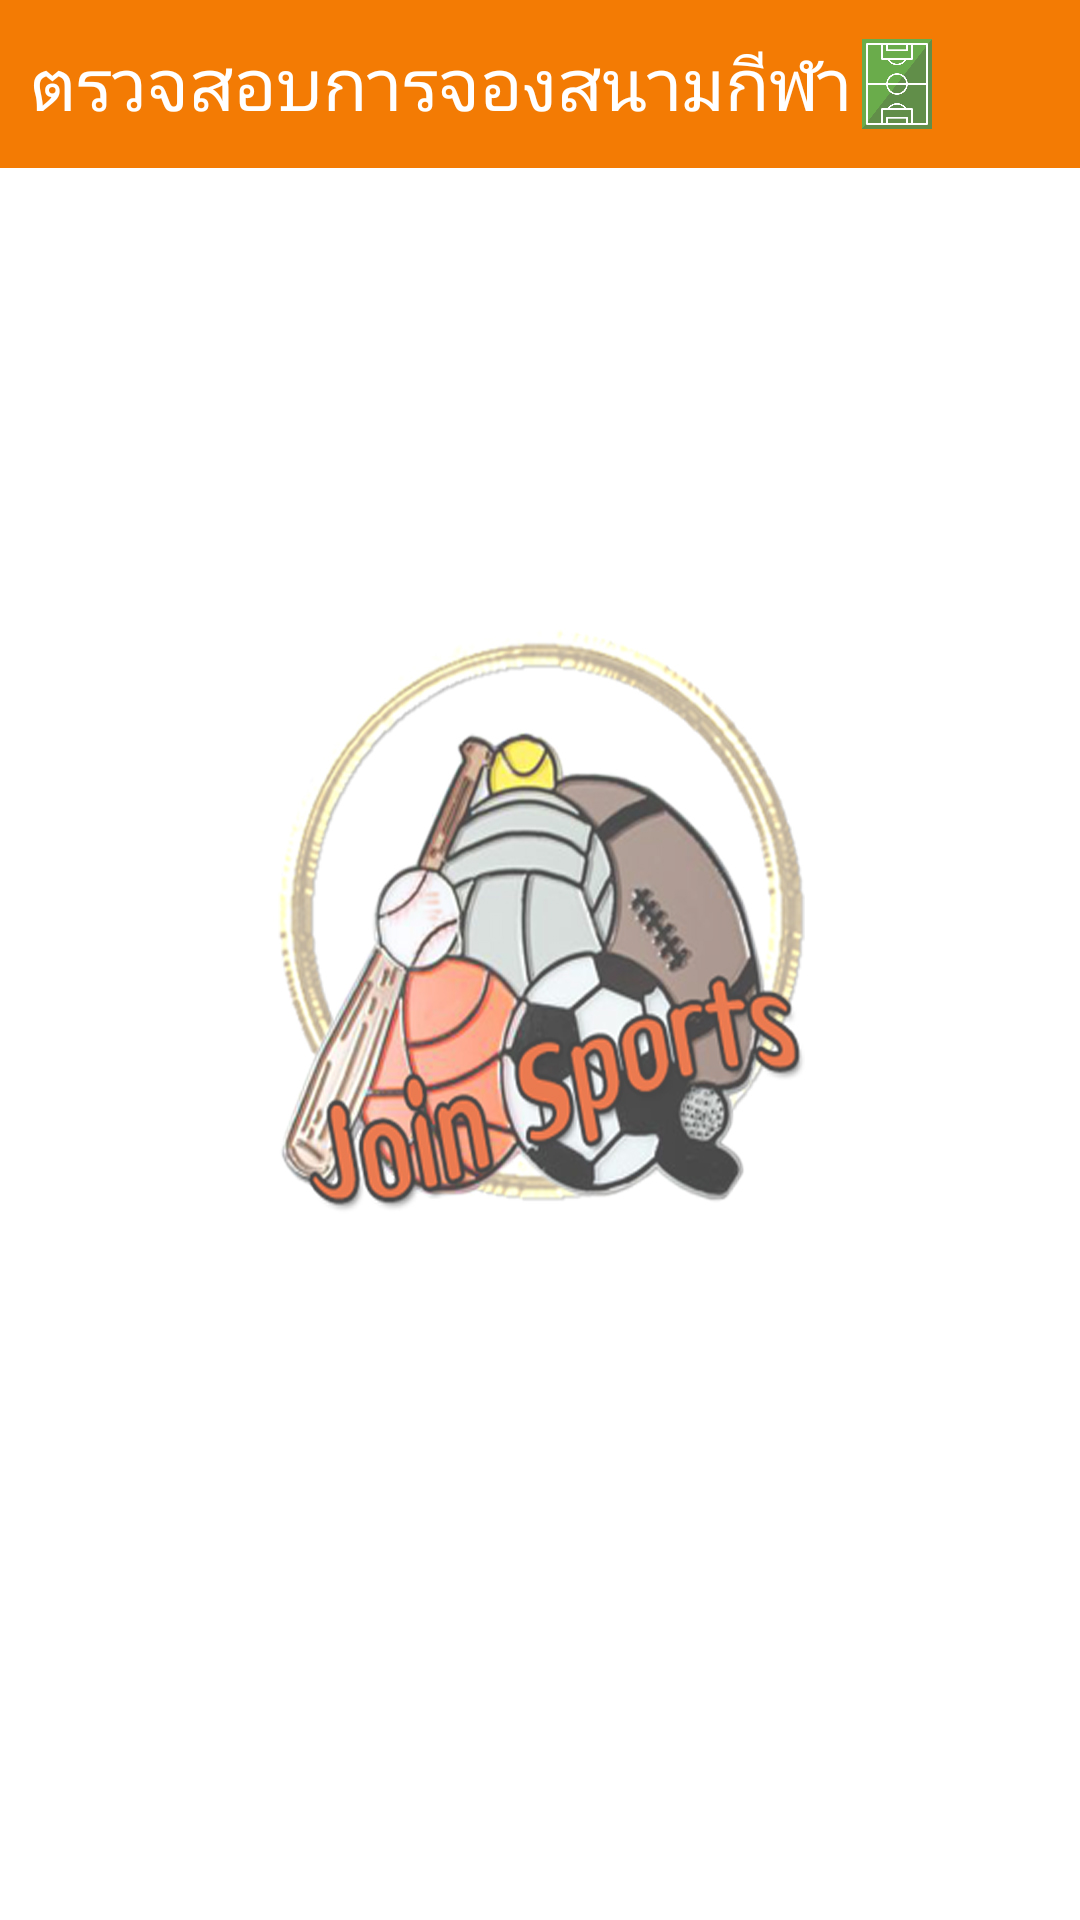

Icon click points for this 1080w x 1920h phone screenshot, format [x,y]:
joinstadiam: [897,84]
